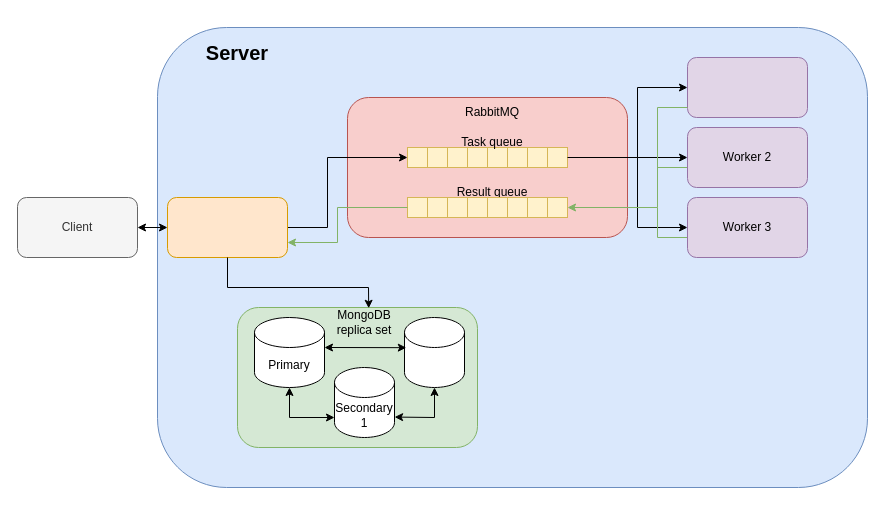
This 885x505 diagram has some shape labels left out. The shapes that lost their labels are listed below. From the top down, each one's box as (x1, y1, x2, y2) in pixels, then its label:
(686, 56, 808, 118): Worker 1
(166, 196, 288, 258): Manager
(404, 316, 464, 388): Secondary 2
